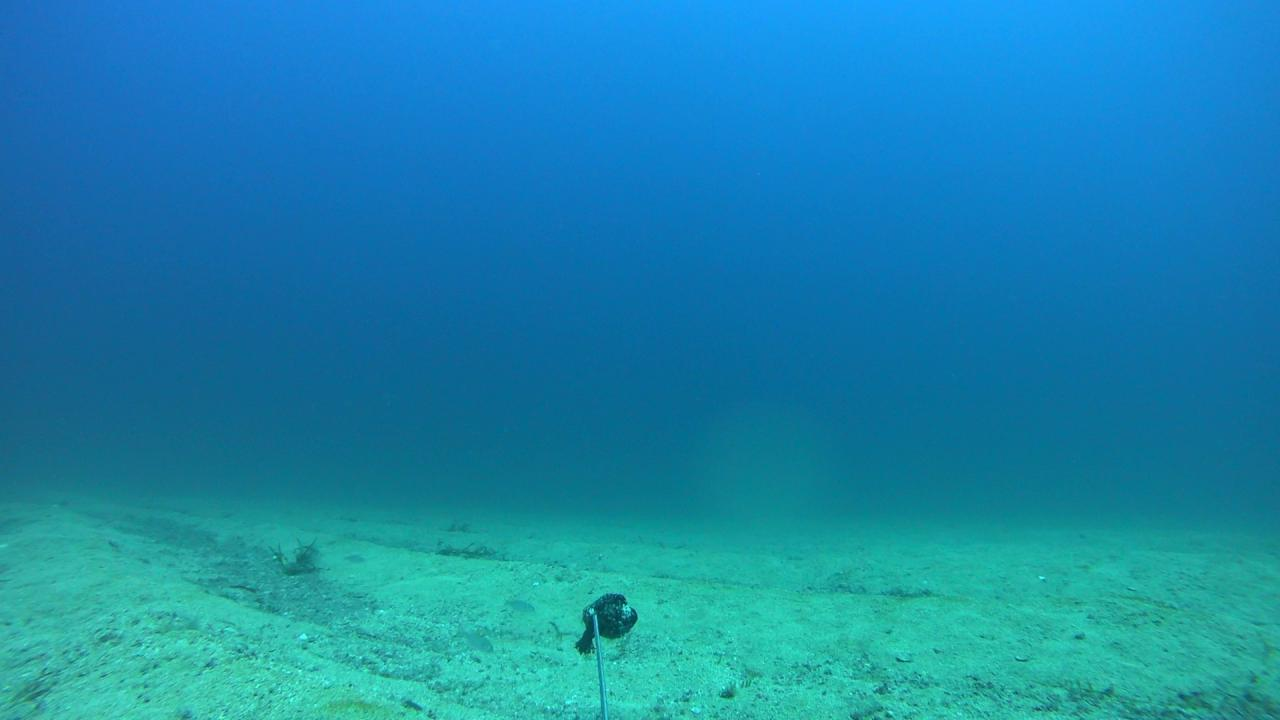pagellus: (454, 626, 494, 654), (505, 602, 538, 614)
